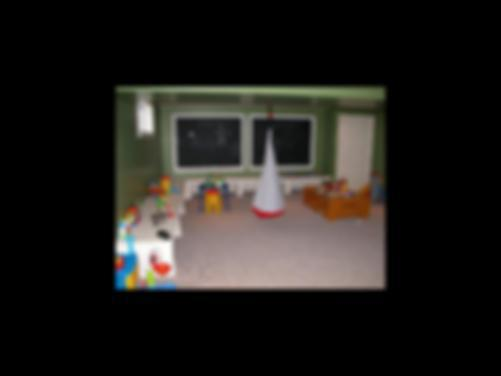Otro Obstaculo: (252, 103, 288, 221)
Puerta: (339, 112, 371, 190)
